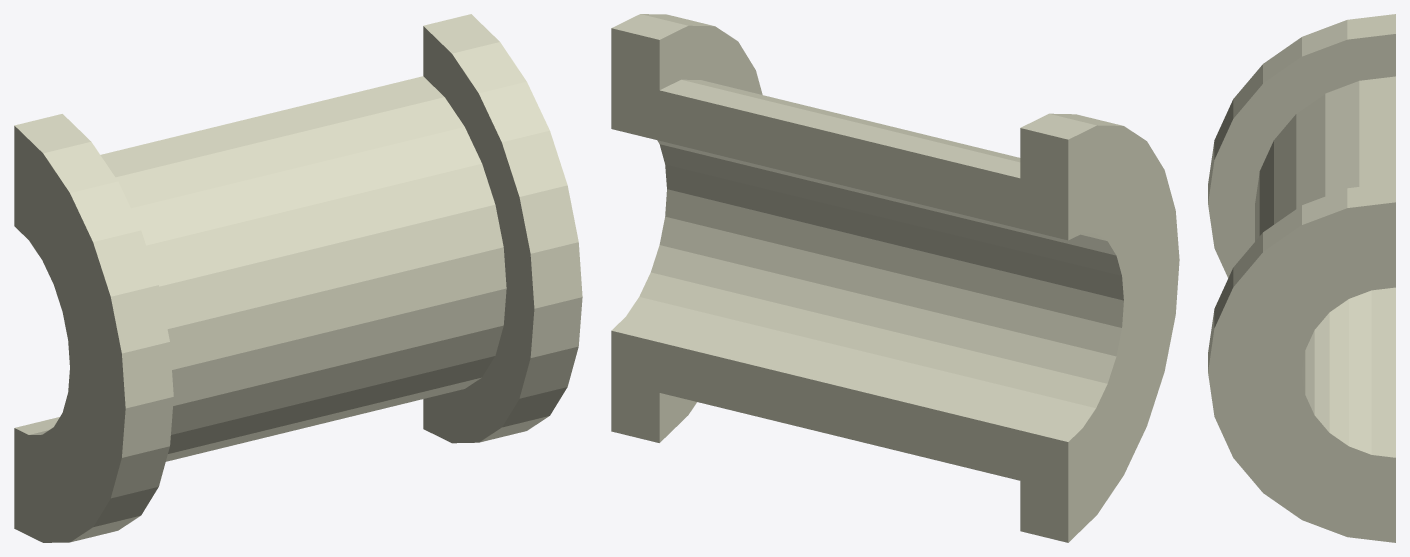
The model's file is section_015.obj.
The picture shows the model from 3 angles, left to right: view 1: azimuth 30°, elevation 25°; view 2: azimuth 150°, elevation 25°; view 3: azimuth 270°, elevation 25°; orthographic projection. The views are drawn at different scales.
Size of the model in its own units: 9.49 by 8 by 4.
